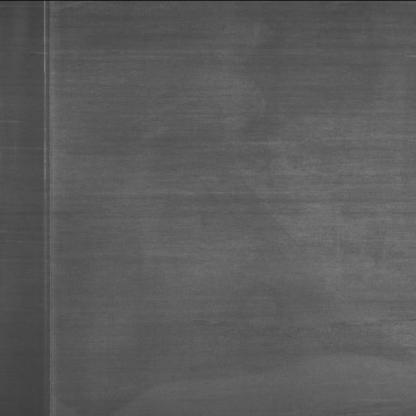welding_line: (26, 2, 68, 416)
